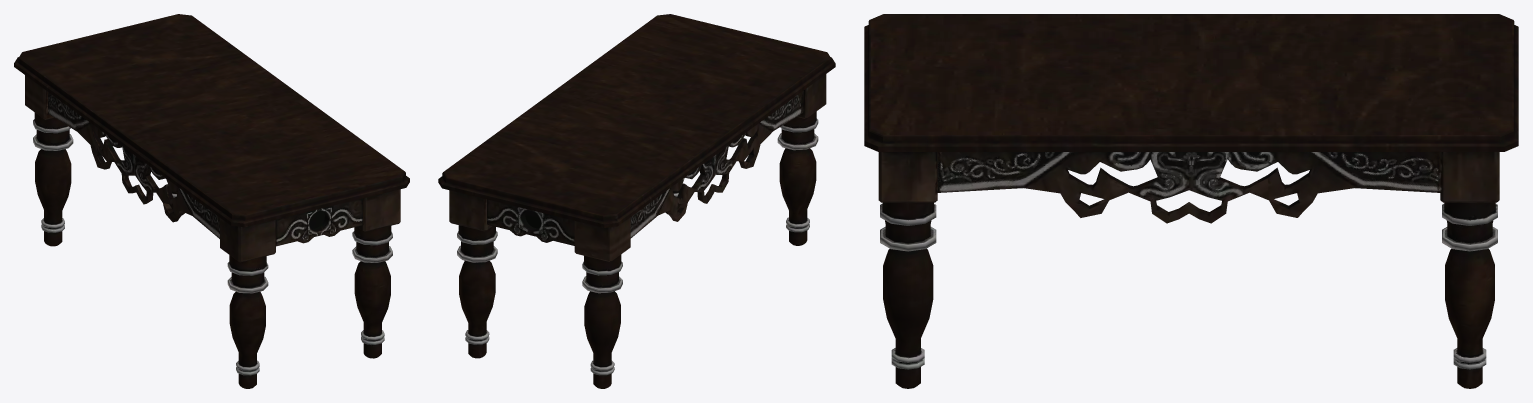
The model's file is victorian-table-low.glb.
The picture shows the model from 3 angles, left to right: view 1: azimuth 30°, elevation 25°; view 2: azimuth 150°, elevation 25°; view 3: azimuth 270°, elevation 25°; orthographic projection. The views are drawn at different scales.
Parts seen in each view (by area): view 1: g; view 2: g; view 3: g.
Part boxes in pixels (x1,y1,x2,y2): g: [14, 14, 409, 388]; g: [438, 14, 835, 388]; g: [864, 14, 1518, 388].
Bounding box in the file's own units: 0.9103 × 0.8985 × 2.
1 material, 1 textured.
